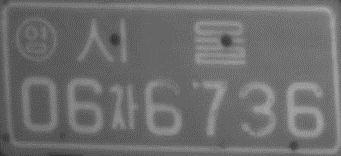0: (20, 75, 59, 134)
3: (238, 81, 278, 139)
6: (143, 79, 183, 137), (285, 80, 325, 138), (66, 76, 103, 134)
7: (191, 78, 228, 136)
서울_D: (73, 17, 245, 66)
영: (14, 15, 57, 63)
차: (108, 82, 138, 130)
